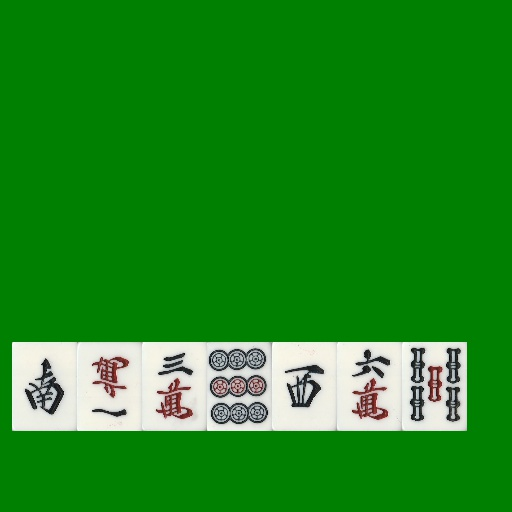1m: (77, 342, 142, 431)
3m: (142, 342, 207, 431)
5s: (402, 342, 467, 431)
6m: (337, 342, 402, 431)
9p: (207, 342, 272, 431)
south: (12, 342, 77, 431)
west: (272, 342, 337, 431)
